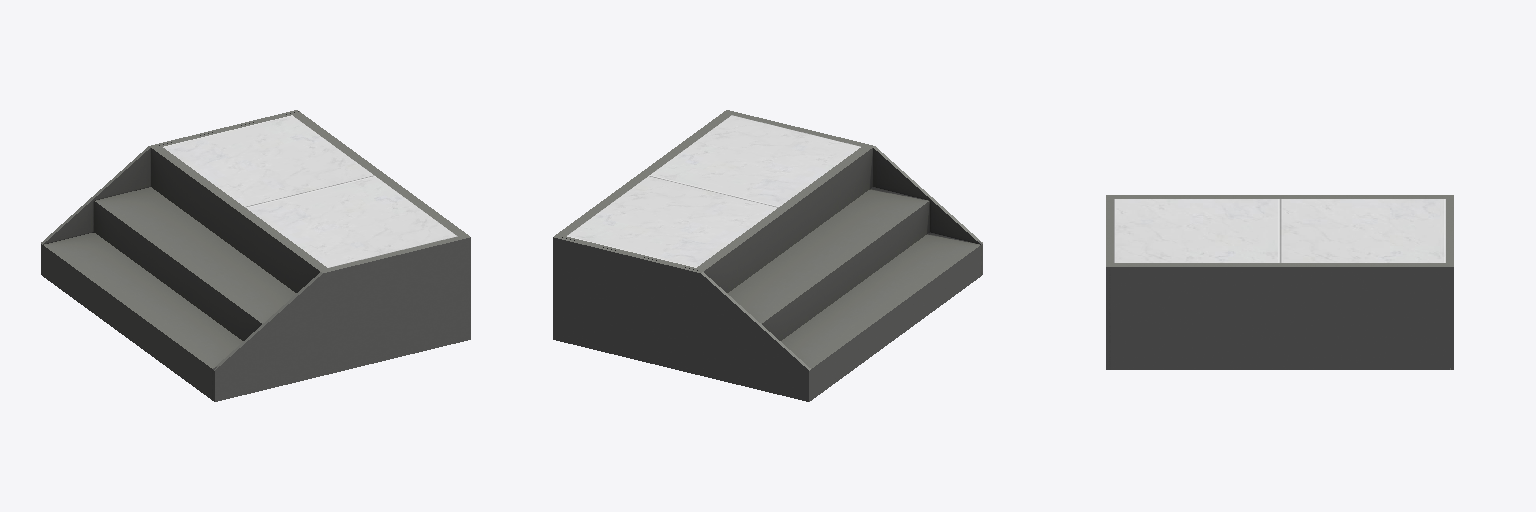
3 views of the same model, side by side, from view 1: azimuth 30°, elevation 25°; view 2: azimuth 150°, elevation 25°; view 3: azimuth 270°, elevation 25° (orthographic).
Visible parts, largest first — view 1: Rectangle02; view 2: Rectangle02; view 3: Rectangle02.
Part boxes in pixels (left/top/right/bottom): Rectangle02: left=41, top=110, right=470, bottom=401; Rectangle02: left=553, top=110, right=982, bottom=401; Rectangle02: left=1106, top=195, right=1453, bottom=369.
Size of the model in its own units: 105 by 40.15 by 124.
Materials: 1 (1 with a texture image).